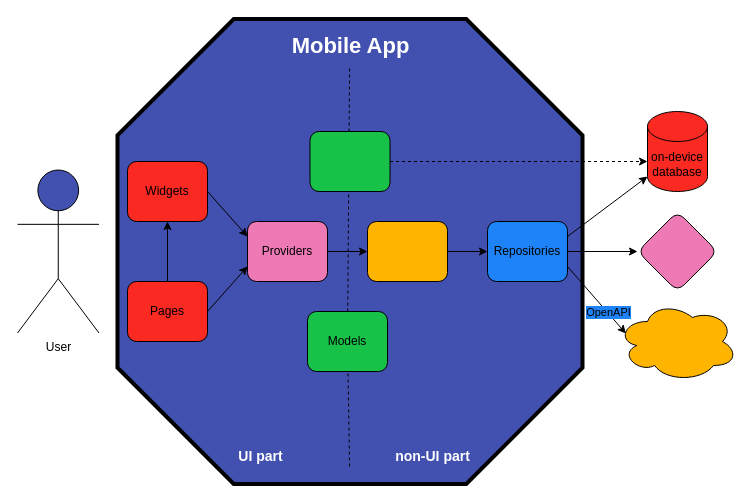
The diagram is 755 pixels wide and 503 high, and some of its shapes have lost their labels. The shapes that lost their labels are listed below. From the top down, each one's centre as x and y in pixels, then its label:
At pixel 349 161: "Entities".
At pixel 407 251: "Services".
At pixel 677 251: "platform system".
At pixel 677 341: "server".
